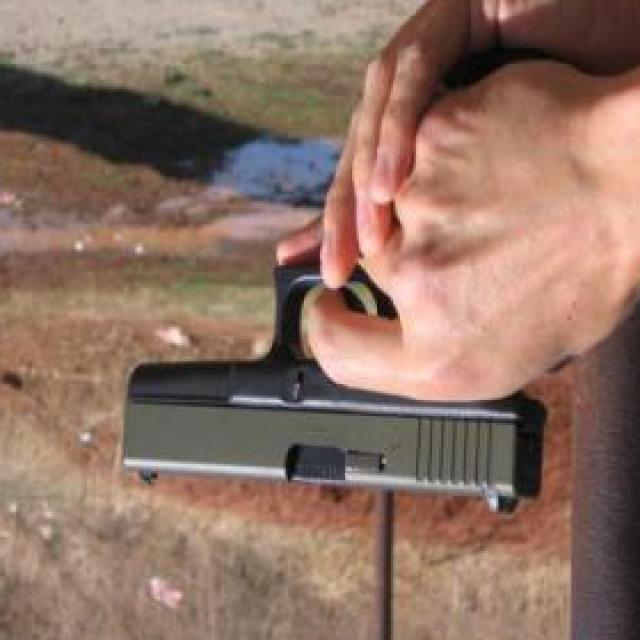pistol: (118, 46, 564, 516)
